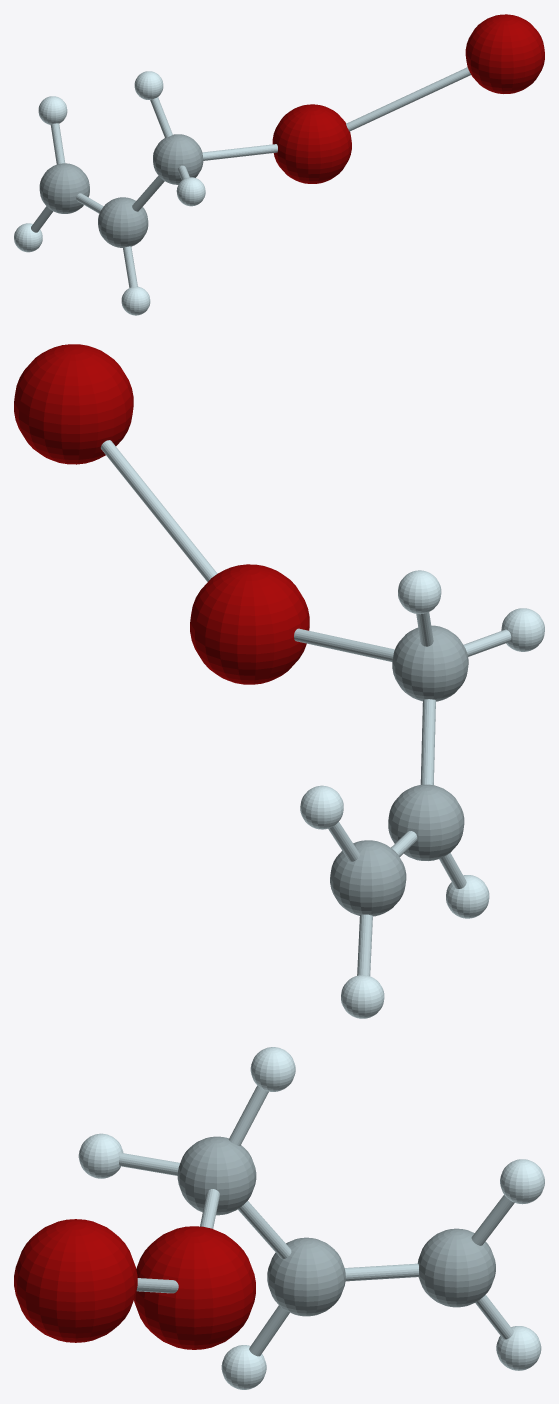
The model's file is irc_step_157.glb.
The picture shows the model from 3 angles, top to bottom: view 1: azimuth 30°, elevation 25°; view 2: azimuth 150°, elevation 25°; view 3: azimuth 270°, elevation 25°; orthographic projection. The views are drawn at different scales.
Parts seen in each view (by area): view 1: Renderer Node; view 2: Renderer Node; view 3: Renderer Node.
Boxes of the visible parts, x1,y1,x2,y2 form: Renderer Node: (14,14,544,315); Renderer Node: (14,344,544,1018); Renderer Node: (14,1047,544,1389).
Size of the model in its own units: 6.06 by 3.93 by 4.71.
